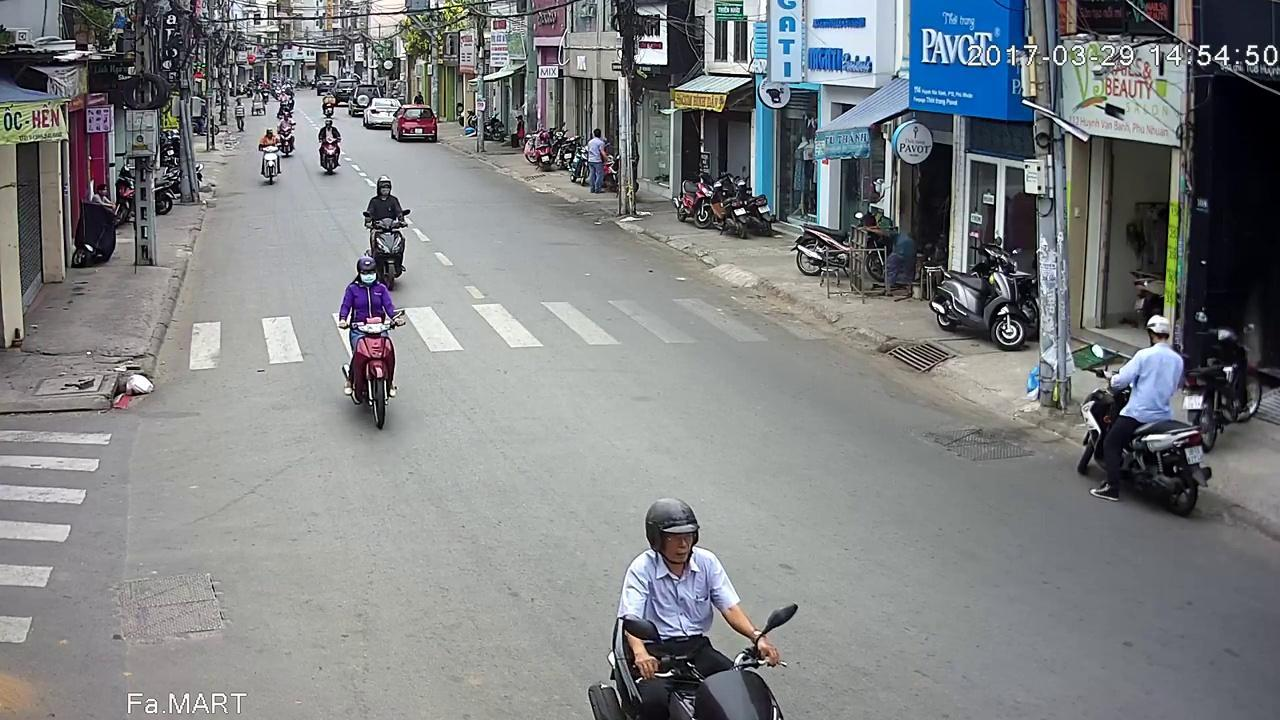xe hoi: (393, 104, 440, 142)
xe may: (584, 468, 795, 720), (1074, 313, 1209, 515), (330, 255, 400, 428), (361, 171, 412, 289), (318, 117, 343, 174)
